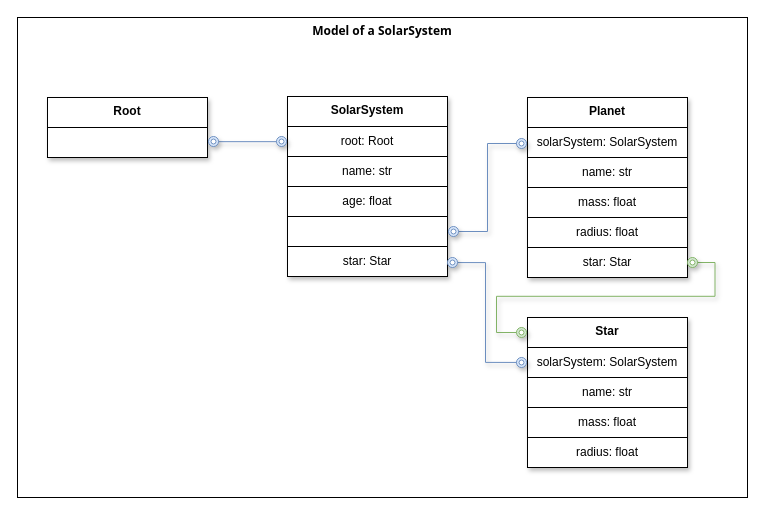
This 765x515 diagram has some shape labels left out. Each missing label, with the centre of its shape:
planets: Planet: point (367, 231)
solarSystems: SolarSystem: point (127, 142)
